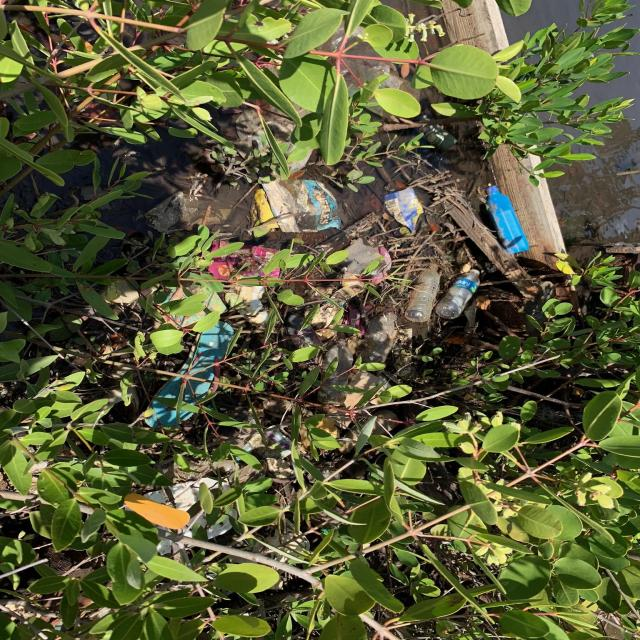litter: (145, 322, 235, 426), (126, 476, 240, 556), (262, 178, 340, 232), (150, 280, 229, 328), (210, 239, 288, 281), (487, 186, 530, 255), (334, 236, 391, 287), (312, 274, 364, 329), (145, 191, 204, 230), (318, 339, 351, 405), (236, 425, 292, 463), (438, 269, 480, 318), (360, 313, 398, 366), (382, 187, 424, 233), (403, 270, 439, 322), (252, 190, 280, 230), (415, 124, 458, 149)
